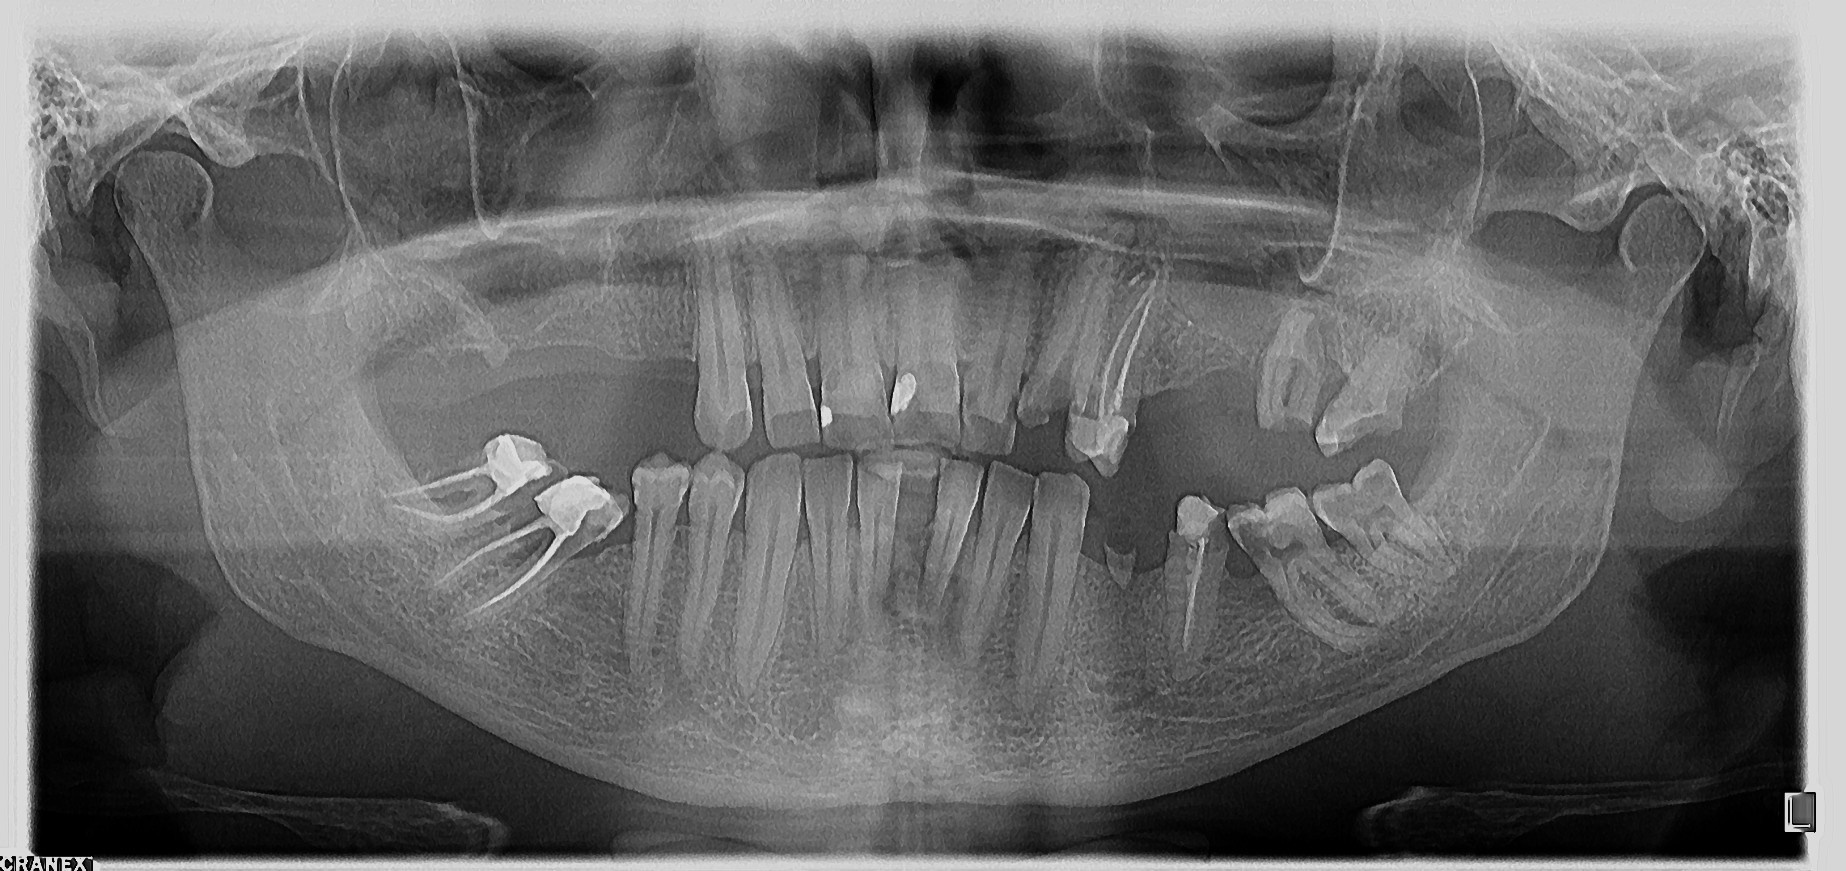BON: (557, 517, 637, 578)
CAR: (1319, 392, 1417, 458), (1015, 368, 1087, 439), (1322, 467, 1401, 525), (1231, 500, 1276, 571)
END: (421, 508, 566, 626), (1084, 251, 1167, 418), (376, 453, 504, 536), (1174, 536, 1216, 663)
OBT: (483, 419, 550, 505), (539, 465, 617, 528), (1058, 410, 1138, 467), (1166, 491, 1230, 541), (881, 359, 929, 425), (811, 398, 844, 439)
ROT: (1254, 292, 1329, 441), (1093, 525, 1149, 607)
